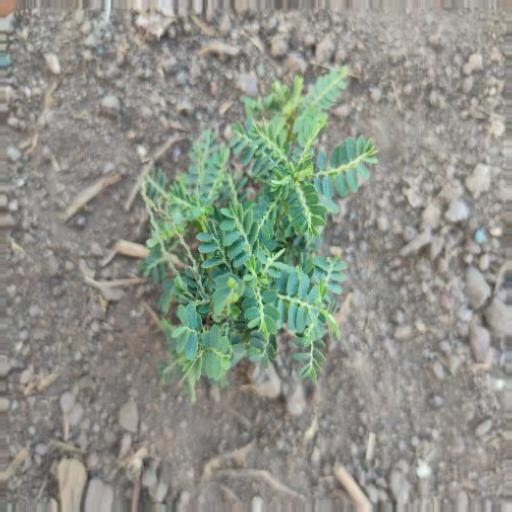weed: (133, 65, 382, 411)
